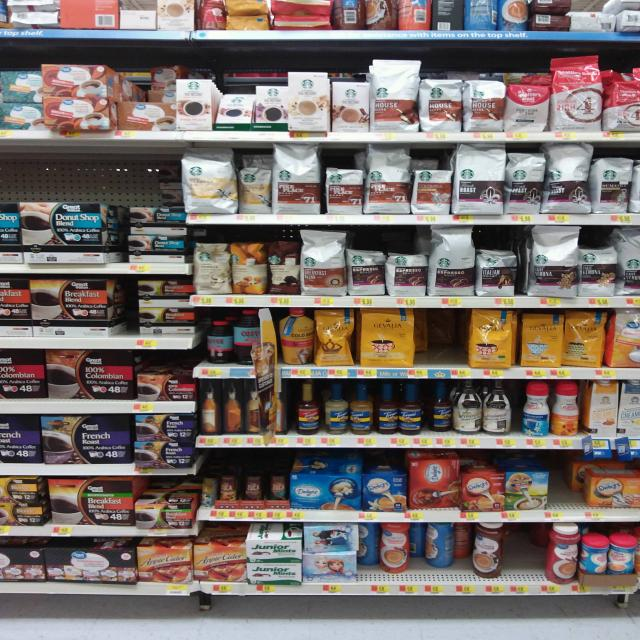unorganised: (361, 525, 506, 582), (40, 66, 114, 134), (133, 283, 193, 334), (541, 524, 580, 587), (234, 155, 271, 212), (421, 387, 451, 433), (233, 314, 259, 364), (207, 316, 232, 365), (218, 94, 252, 128), (136, 77, 174, 101)
